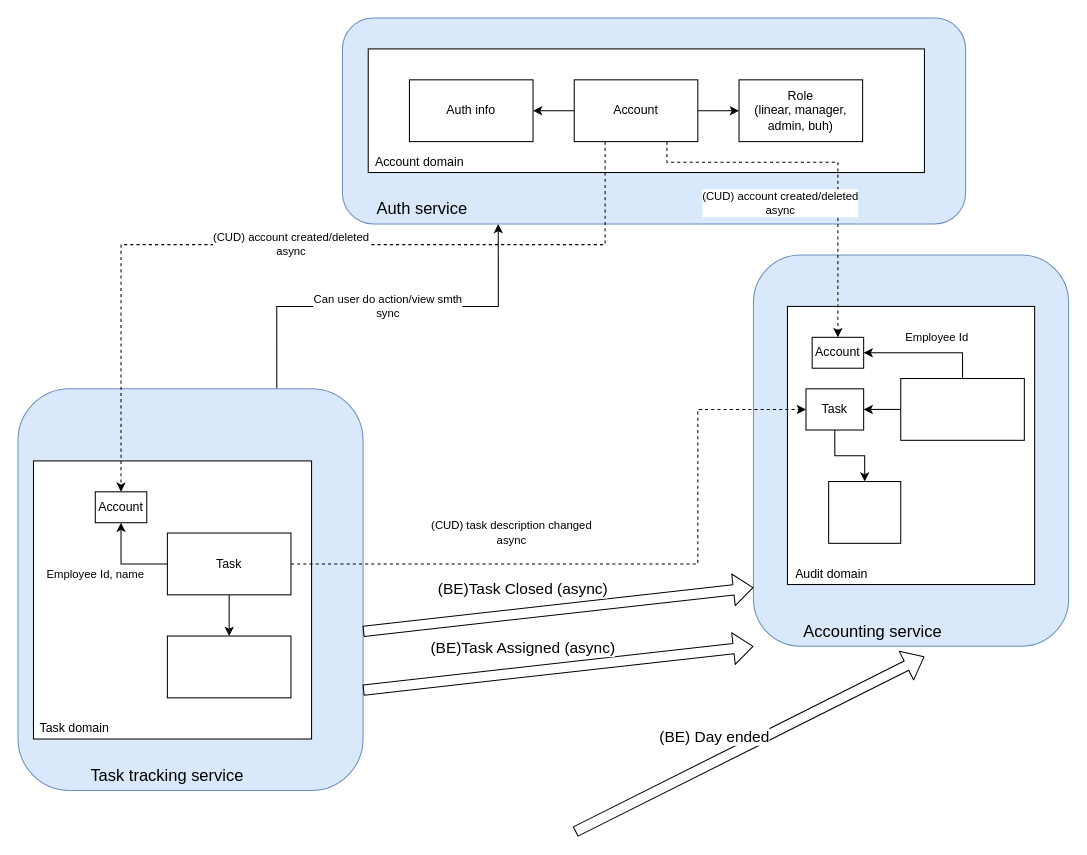
The diagram is 1087 pixels wide and 855 high, and some of its shapes have lost their labels. The centre of each missing label's shape, as x and y in pixels:
"Audit" belongs at (x=962, y=408).
"Task cost" belongs at (x=864, y=511).
"Task Status" belongs at (x=228, y=666).
